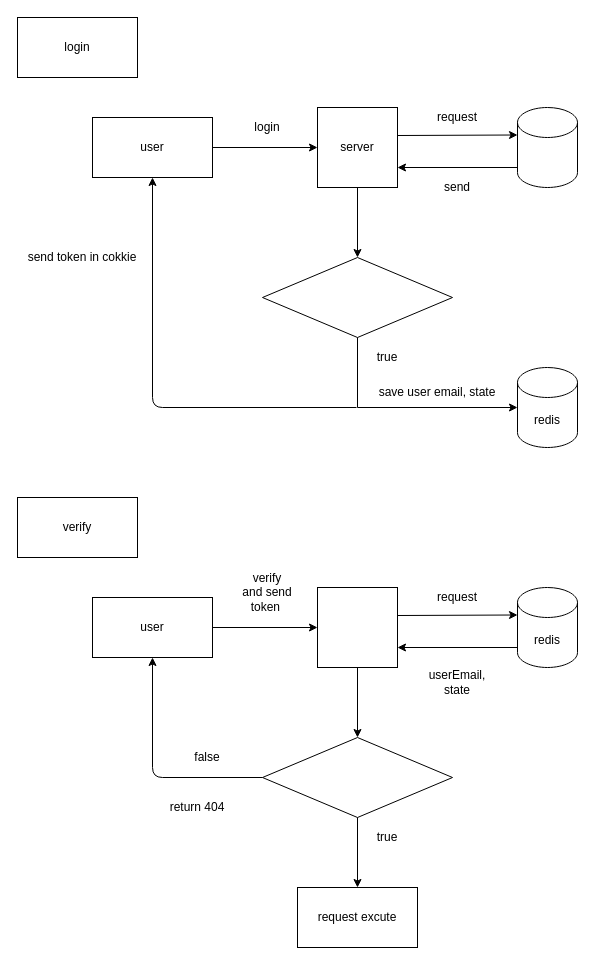
This 595x965 diagram has some shape labels left out. Each missing label, with the centre of its shape:
"compare password(bycrpt)" goes at (357,297).
"interceptor" goes at (357,627).
"match jwt, and check user permit" goes at (357,777).
"MySQL" goes at (547,147).
